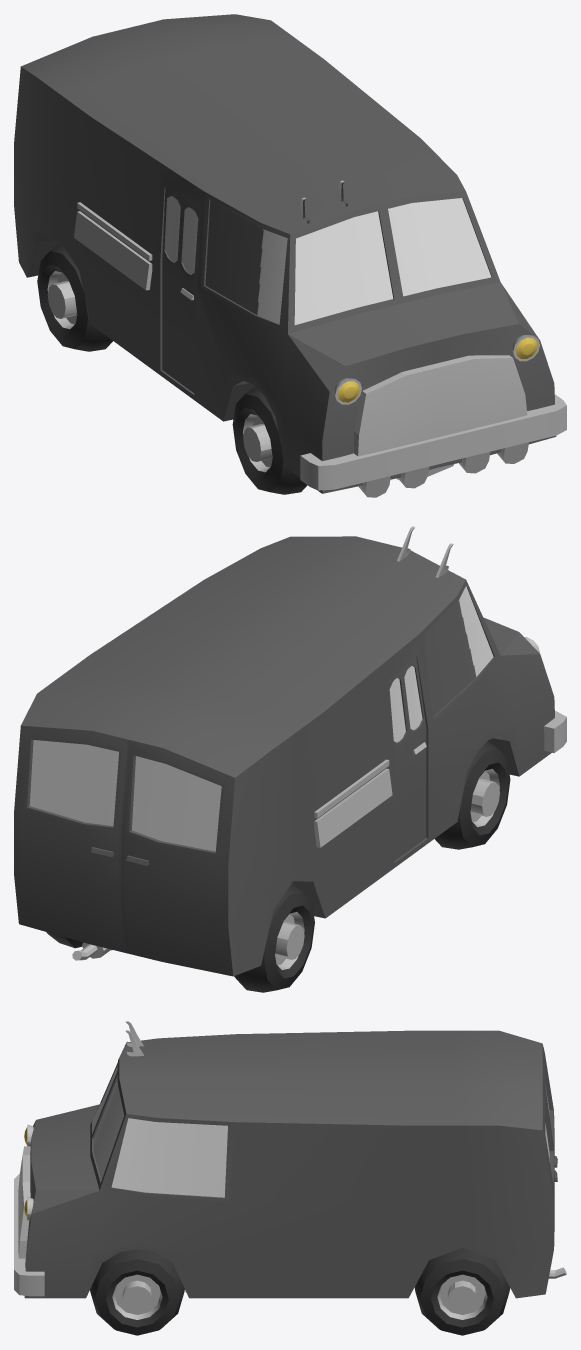
The model's file is Kombi.fbx.
3 renders of one model, top to bottom at view 1: azimuth 30°, elevation 25°; view 2: azimuth 150°, elevation 25°; view 3: azimuth 270°, elevation 25°, orthographic. The views are drawn at different scales.
Parts seen in each view (by area): view 1: Kombi.001; view 2: Kombi.001; view 3: Kombi.001.
Boxes of the visible parts, bbox=[...] form: Kombi.001: bbox=[14, 14, 566, 497]; Kombi.001: bbox=[14, 526, 566, 992]; Kombi.001: bbox=[14, 1021, 566, 1335].
Size of the model in its own units: 215 by 243 by 488.
Materials: 1 (1 with a texture image).
